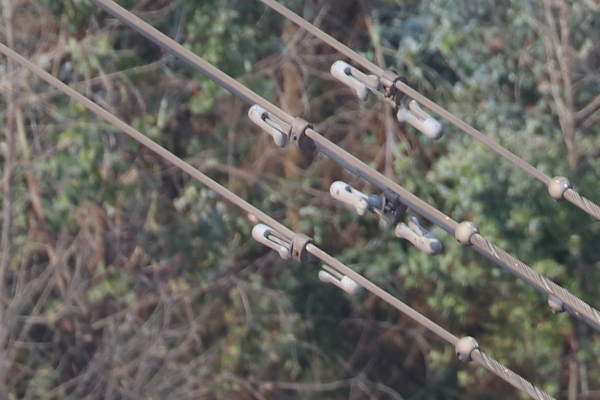damper: (324, 52, 447, 143), (242, 216, 364, 303), (327, 176, 443, 256)
damper_defect: (238, 97, 316, 156)
